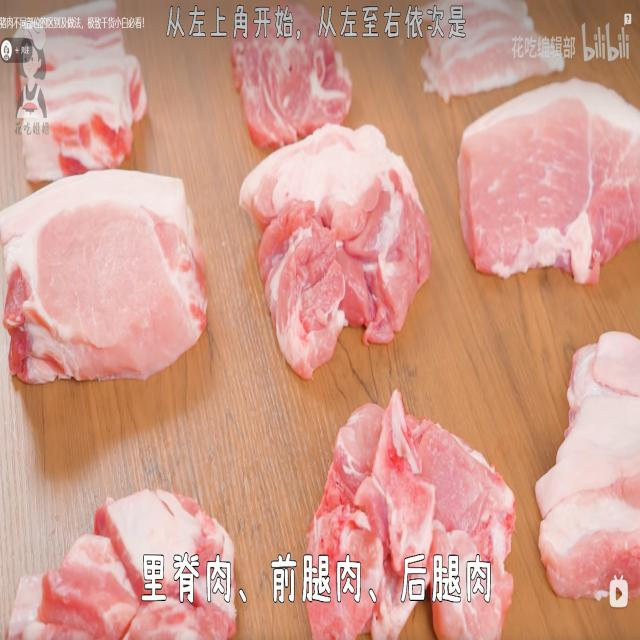Pork: (3, 190, 221, 380), (245, 154, 427, 366), (322, 393, 522, 557), (464, 110, 640, 294), (560, 308, 639, 624), (29, 6, 158, 172), (18, 497, 141, 634), (432, 6, 562, 100), (234, 37, 362, 129)
